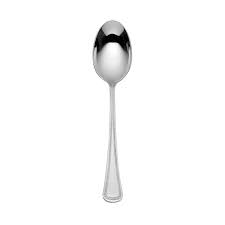spoon: (89, 17, 136, 208)
